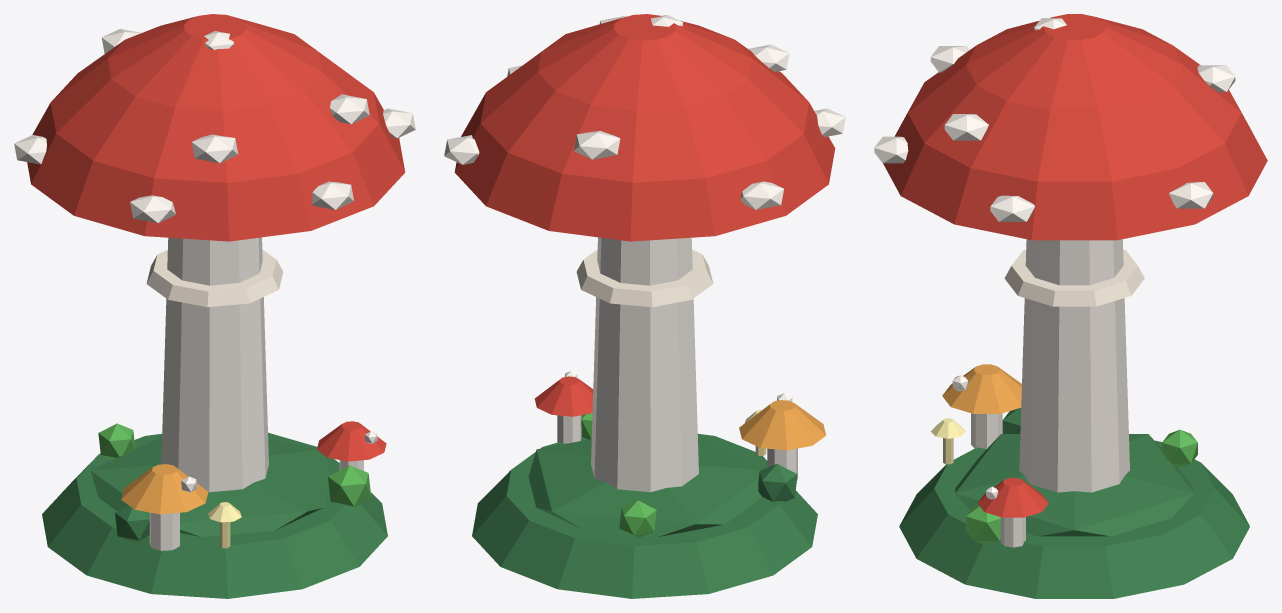
Rendered from CatCafe_Decor_MushroomLamp.glb.
The picture shows the model from 3 angles, left to right: view 1: azimuth 30°, elevation 25°; view 2: azimuth 150°, elevation 25°; view 3: azimuth 270°, elevation 25°; orthographic projection.
Parts seen in each view (by area): view 1: CatCafe_Decor_MushroomLamp, CatCafe_Decor_MushroomLamp_Glow; view 2: CatCafe_Decor_MushroomLamp; view 3: CatCafe_Decor_MushroomLamp, CatCafe_Decor_MushroomLamp_Glow.
Boxes of the visible parts, x1,y1,x2,y2 form: CatCafe_Decor_MushroomLamp: [14, 14, 415, 598]; CatCafe_Decor_MushroomLamp_Glow: [208, 502, 241, 548]; CatCafe_Decor_MushroomLamp: [444, 14, 845, 598]; CatCafe_Decor_MushroomLamp: [874, 14, 1267, 598]; CatCafe_Decor_MushroomLamp_Glow: [931, 418, 965, 464].
Size of the model in its own units: 2.2 by 3.16 by 2.24.
Materials: 1 (1 with a texture image).
